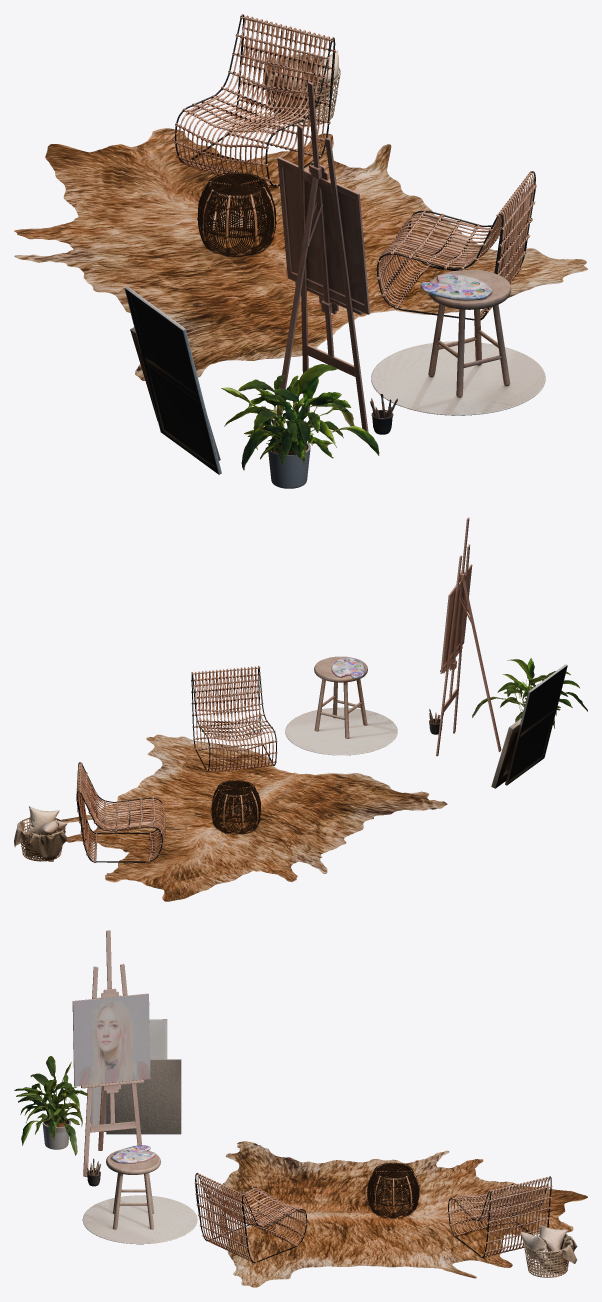
File: LightOffice6th.glb
3 views of the same model, one above another, from view 1: azimuth 30°, elevation 25°; view 2: azimuth 150°, elevation 25°; view 3: azimuth 270°, elevation 25° (orthographic). The views are drawn at different scales.
Visible parts, largest first — view 1: peau de vache_Baked, Canvas_Baked, Rattan Knot Chair.001_Baked.001, Round embossed flower carpet_Baked, CornerPlant2_Baked, Sankofa_Baked, PillowBasket_Baked, CornerPlant2pot_Baked; view 2: peau de vache_Baked, Canvas_Baked, Rattan Knot Chair.001_Baked.001, Round embossed flower carpet_Baked, Sankofa_Baked, PillowBasket_Baked, CornerPlant2_Baked; view 3: peau de vache_Baked, Canvas_Baked, Rattan Knot Chair.001_Baked.001, Round embossed flower carpet_Baked, CornerPlant2_Baked, Sankofa_Baked, PillowBasket_Baked, CornerPlant2pot_Baked.
Part boxes in pixels (<box>): peau de vache_Baked: <box>14,128,587,380</box>; Canvas_Baked: <box>124,81,511,474</box>; Rattan Knot Chair.001_Baked.001: <box>174,14,536,320</box>; Round embossed flower carpet_Baked: <box>371,341,545,415</box>; CornerPlant2_Baked: <box>221,364,379,470</box>; Sankofa_Baked: <box>197,172,276,256</box>; PillowBasket_Baked: <box>263,50,340,126</box>; CornerPlant2pot_Baked: <box>268,442,310,488</box>; peau de vache_Baked: <box>61,734,447,901</box>; Canvas_Baked: <box>314,517,567,788</box>; Rattan Knot Chair.001_Baked.001: <box>76,666,277,862</box>; Round embossed flower carpet_Baked: <box>285,707,397,755</box>; Sankofa_Baked: <box>211,780,261,834</box>; PillowBasket_Baked: <box>14,806,67,861</box>; CornerPlant2_Baked: <box>472,658,587,728</box>; peau de vache_Baked: <box>221,1141,587,1287</box>; Canvas_Baked: <box>72,930,181,1229</box>; Rattan Knot Chair.001_Baked.001: <box>194,1172,552,1263</box>; Round embossed flower carpet_Baked: <box>82,1195,197,1244</box>; CornerPlant2_Baked: <box>14,1056,87,1155</box>; Sankofa_Baked: <box>367,1162,419,1217</box>; PillowBasket_Baked: <box>521,1224,577,1277</box>; CornerPlant2pot_Baked: <box>42,1118,70,1149</box>.
Size of the model in its own units: 2.65 by 1.71 by 3.8.
Materials: 14 (14 with a texture image).
